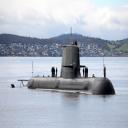submarine: (12, 43, 117, 95)
